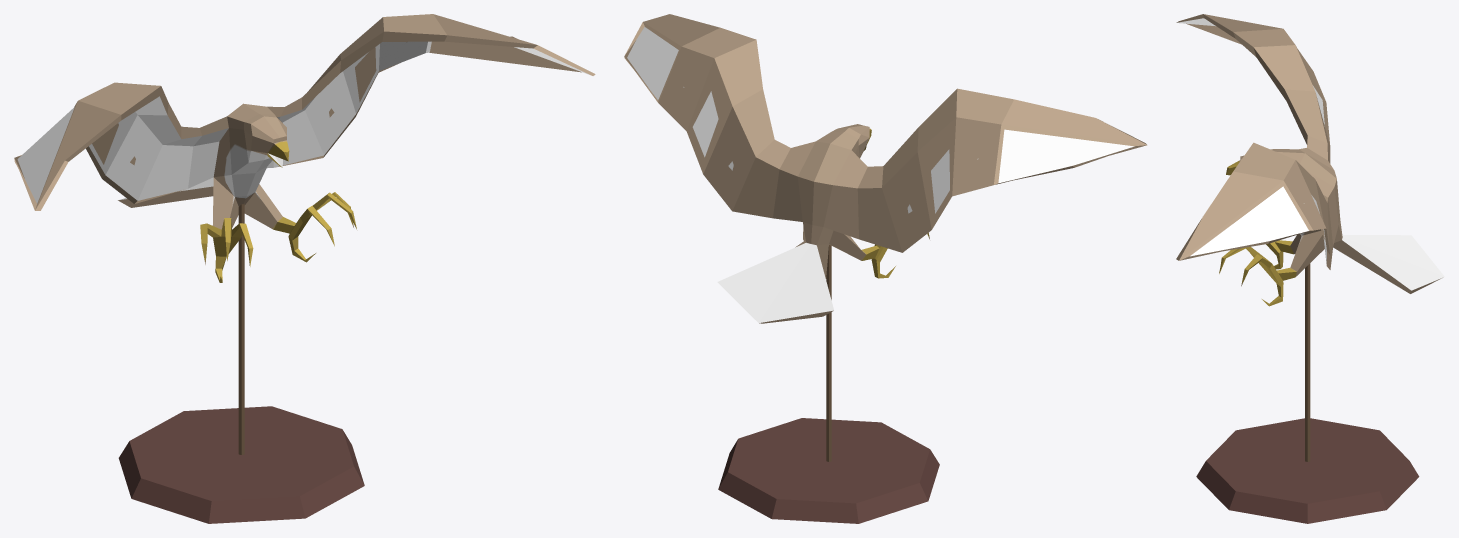
Rendered from Asset_Enemy_Bird.fbx.
The picture shows the model from 3 angles, left to right: view 1: azimuth 30°, elevation 25°; view 2: azimuth 150°, elevation 25°; view 3: azimuth 270°, elevation 25°; orthographic projection. The views are drawn at different scales.
Parts seen in each view (by area): view 1: bird_body1, Bird_Stand, bird_pole; view 2: bird_body1, Bird_Stand, bird_pole; view 3: bird_body1, Bird_Stand, bird_pole.
Boxes of the visible parts, bbox=[...] form: bird_body1: bbox=[14, 14, 595, 282]; Bird_Stand: bbox=[118, 406, 364, 523]; bird_pole: bbox=[238, 203, 244, 454]; bird_body1: bbox=[624, 14, 1147, 323]; Bird_Stand: bbox=[718, 418, 939, 523]; bird_pole: bbox=[826, 244, 831, 461]; bird_body1: bbox=[1176, 14, 1444, 306]; Bird_Stand: bbox=[1196, 418, 1419, 523]; bird_pole: bbox=[1305, 263, 1310, 461].
Bounding box in the file's own units: 83.28 × 61.87 × 39.47.
